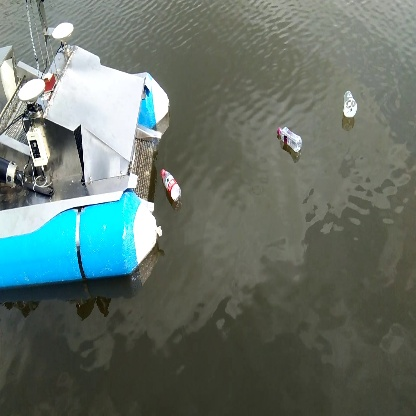bottle: (157, 168, 187, 205), (275, 124, 304, 154), (340, 87, 362, 121)
